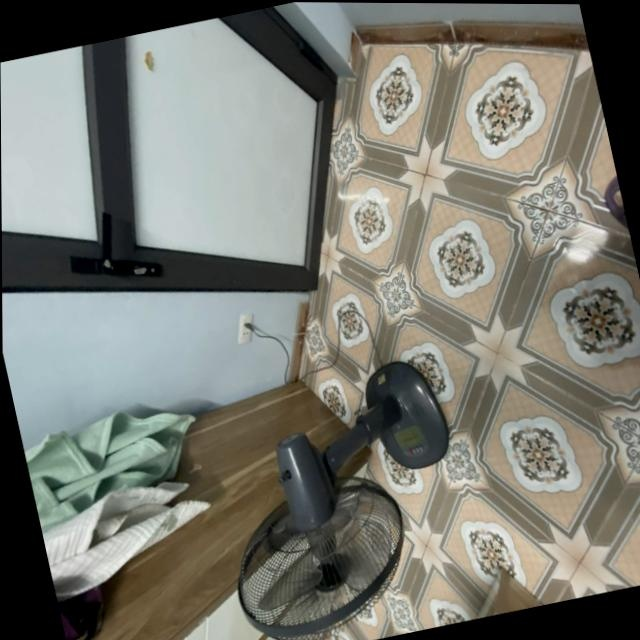outlet: (231, 310, 260, 344)
